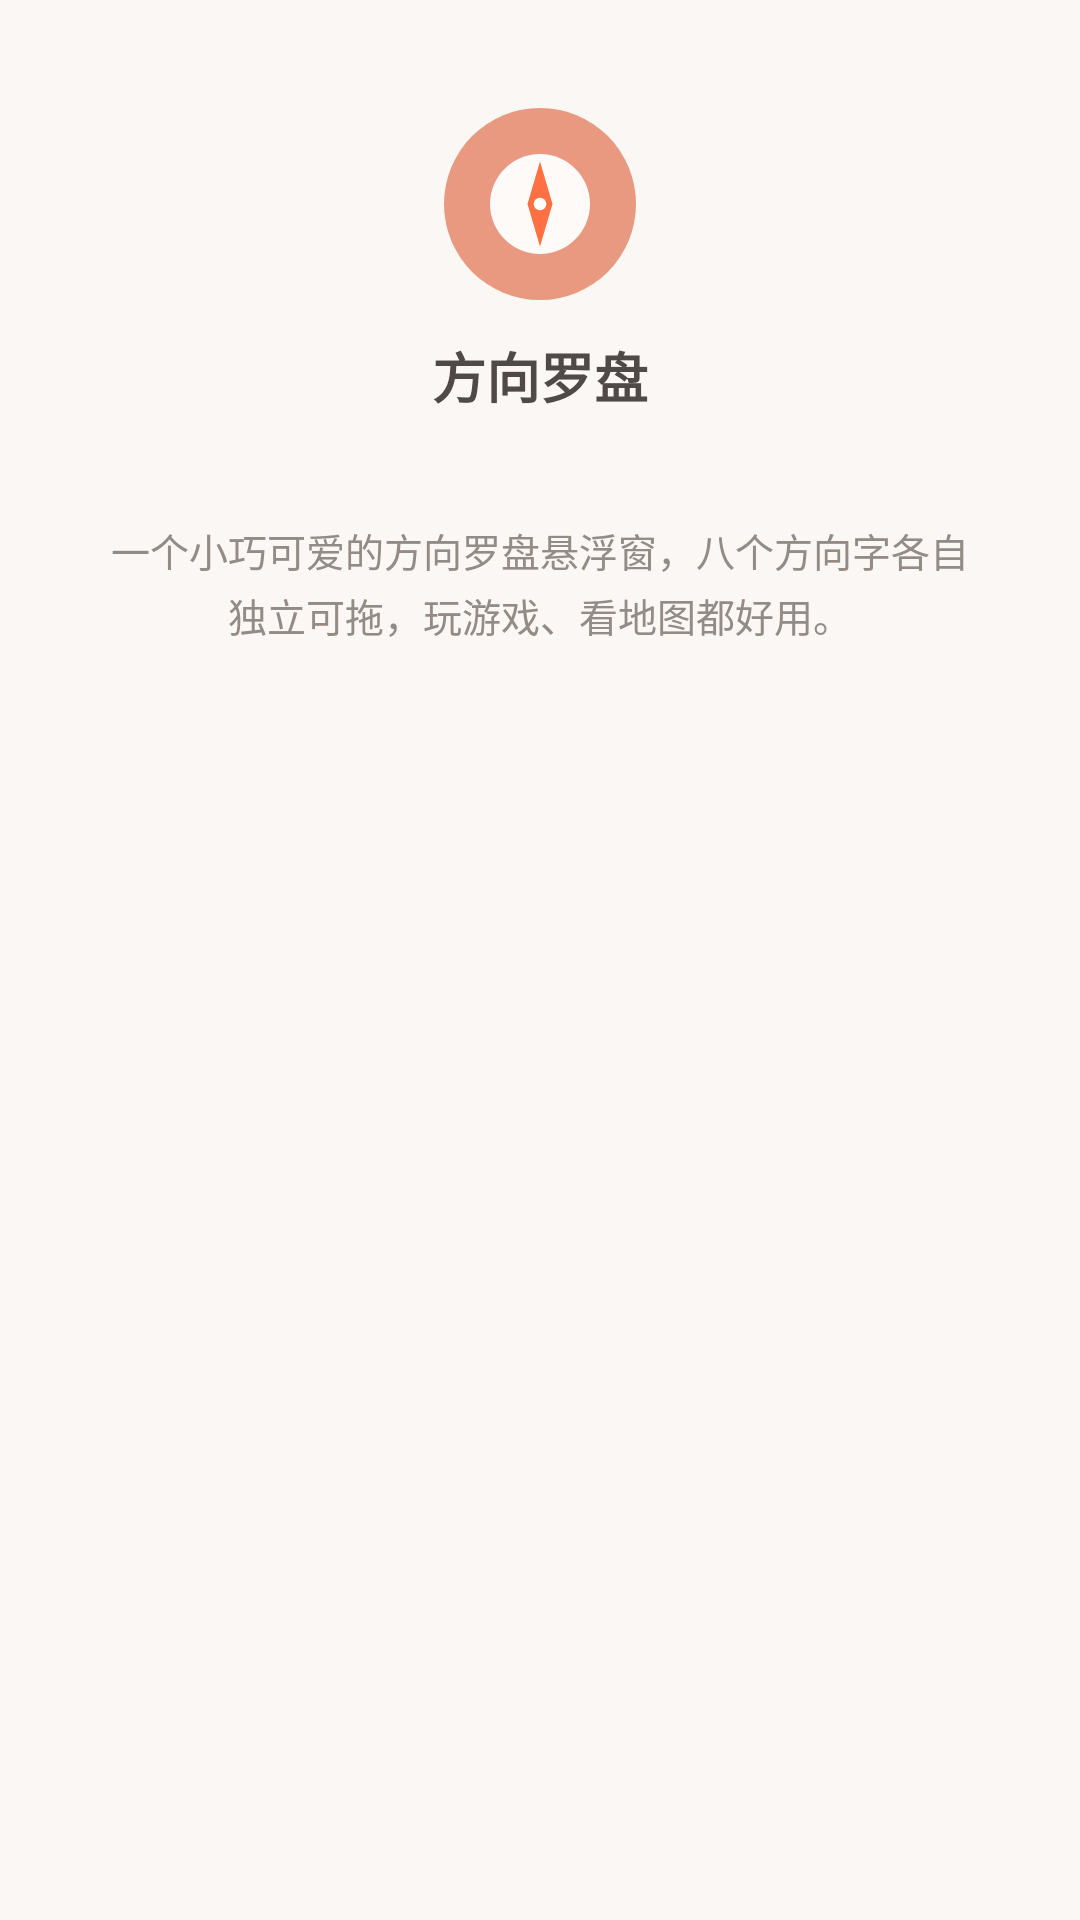

Screen size 1080px×1920px. Icon name, then its center in pixels as point (x, y):
compass: point (540, 204)
